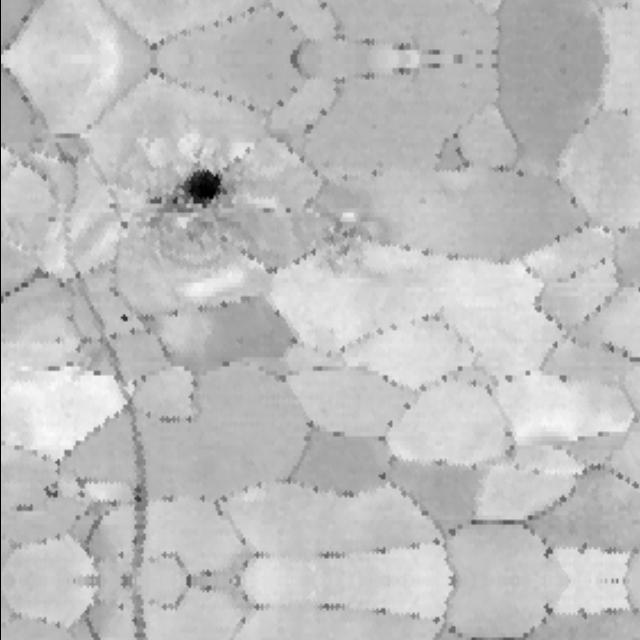good_void: (156, 141, 252, 215), (313, 203, 380, 280), (5, 493, 39, 527), (35, 476, 64, 505), (113, 310, 133, 330), (112, 544, 127, 563), (112, 598, 127, 617), (51, 333, 64, 347)
